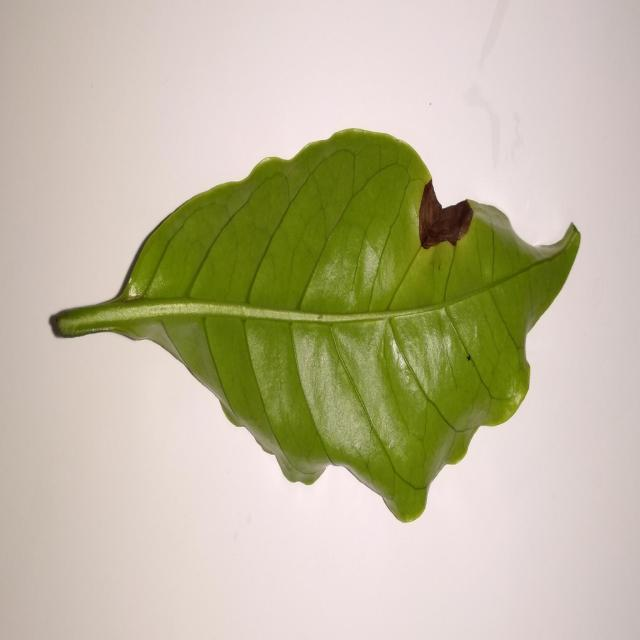Enfermedad-Antracnosis: (47, 128, 581, 526)
